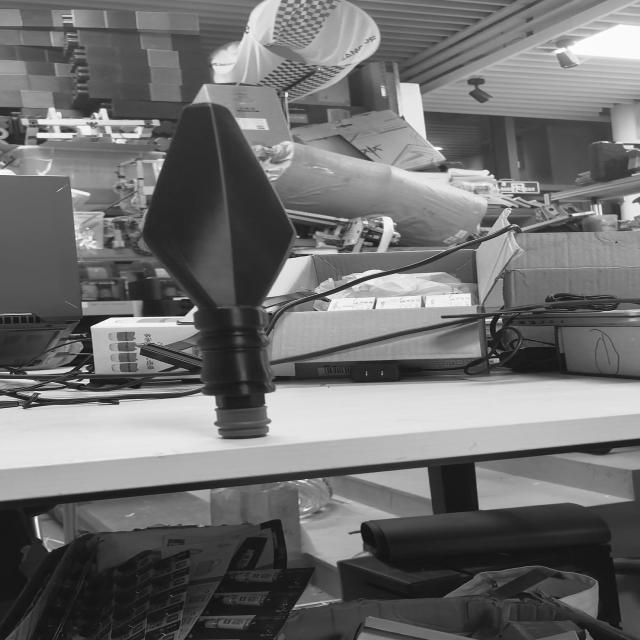base: (217, 406, 272, 438)
